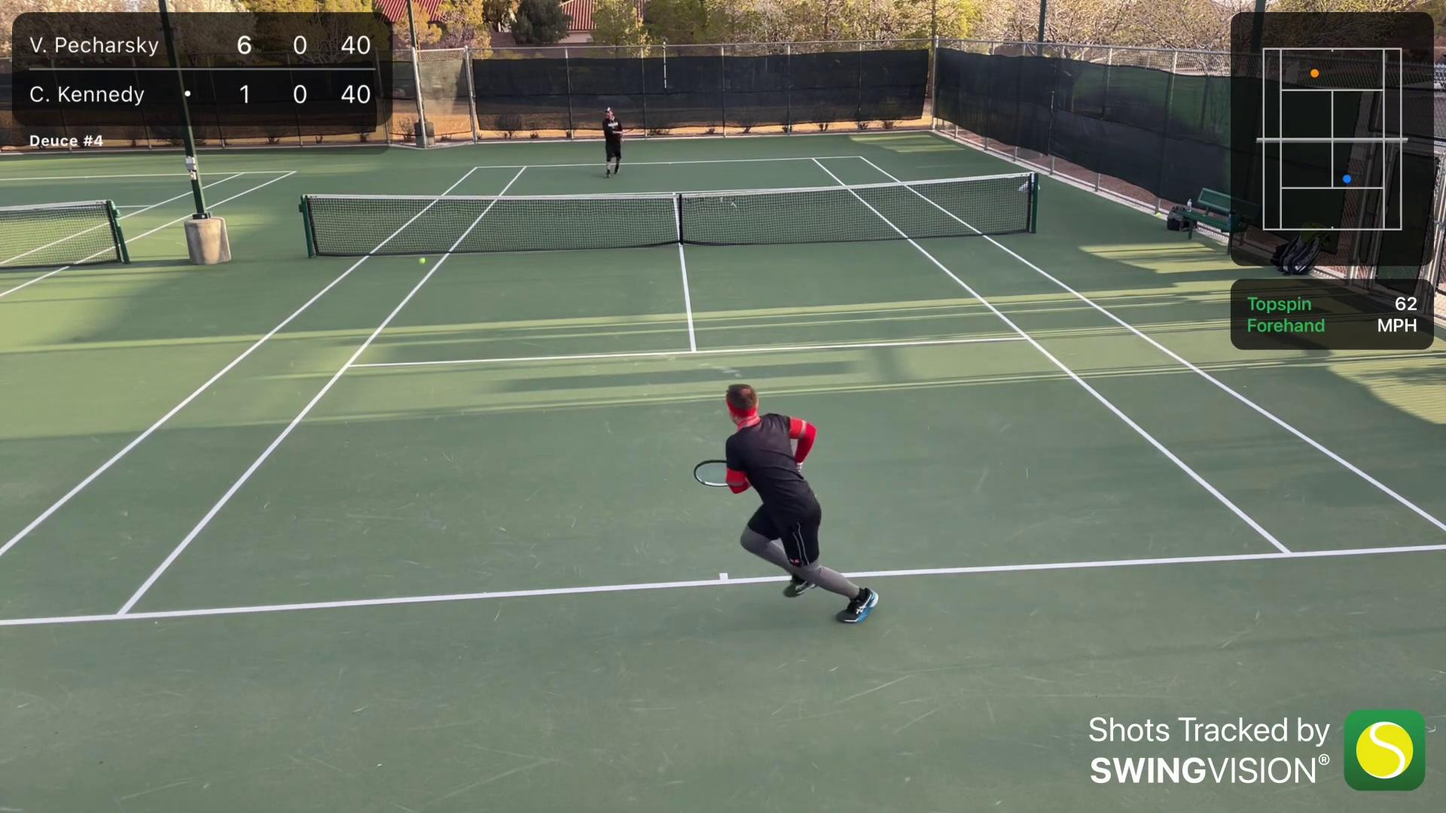ball: (418, 260, 425, 265)
